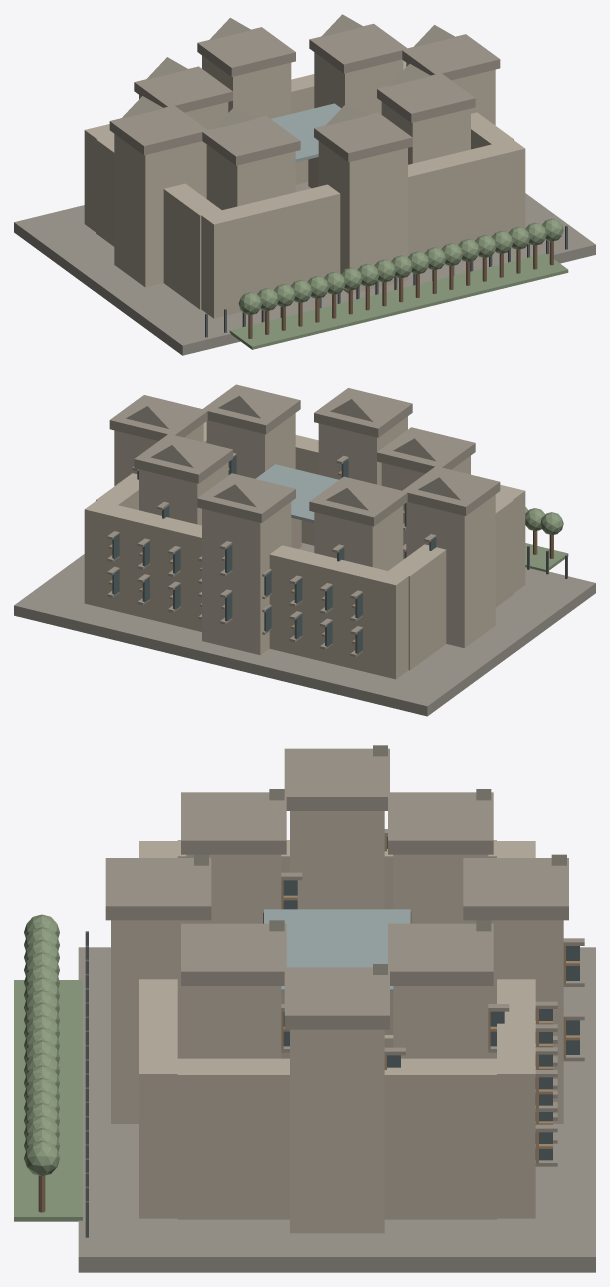
The model's file is hotel_de_ville_pre1871.glb.
3 views of the same model, one above another, from view 1: azimuth 30°, elevation 25°; view 2: azimuth 150°, elevation 25°; view 3: azimuth 270°, elevation 25° (orthographic). The views are drawn at different scales.
Parts seen in each view (by area): view 1: geometry_0; view 2: geometry_0; view 3: geometry_0.
Boxes of the visible parts, x1,y1,x2,y2 form: geometry_0: [14, 14, 595, 355]; geometry_0: [14, 384, 595, 716]; geometry_0: [14, 745, 595, 1272].
Size of the model in its own units: 17 by 6.73 by 13.5.
